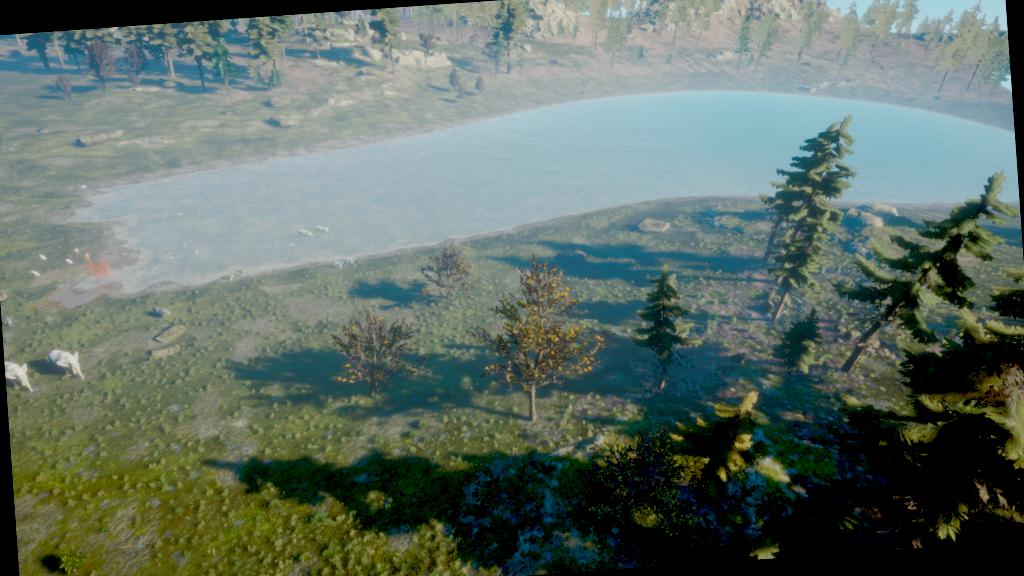elephant: (42, 337, 98, 386)
